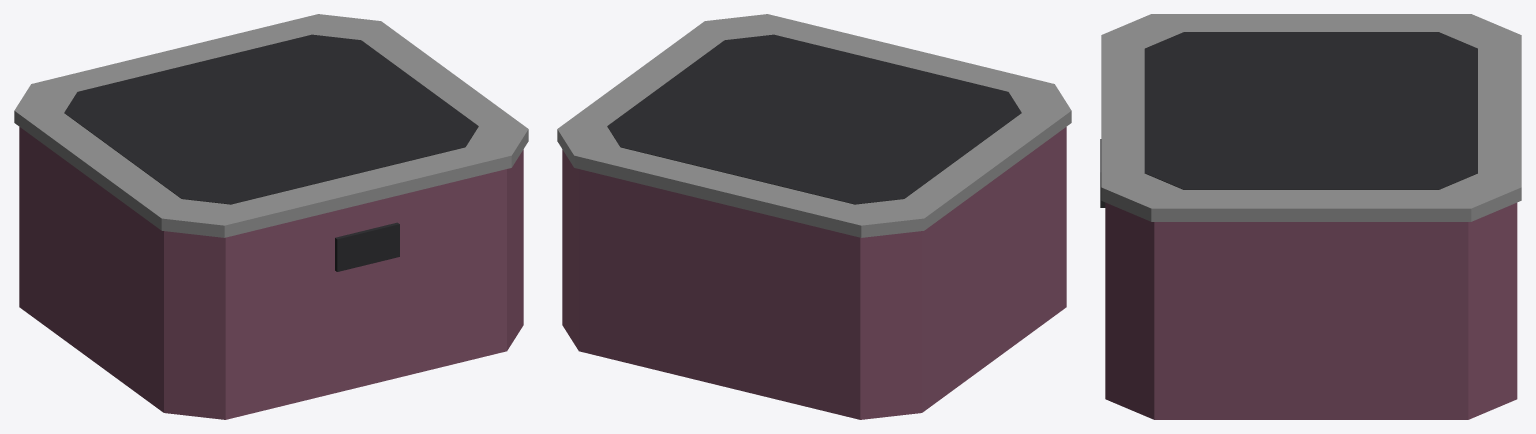
File: vge_spacer_box_electronics_empty.obj
3 views of the same model, side by side, from view 1: azimuth 30°, elevation 25°; view 2: azimuth 150°, elevation 25°; view 3: azimuth 270°, elevation 25° (orthographic). The views are drawn at different scales.
Visible parts, largest first — view 1: vge_spacer_box_electronics_empty_0, vge_spacer_box_electronics_empty_2, vge_spacer_box_electronics_empty_1, vge_spacer_box_electronics_empty_3; view 2: vge_spacer_box_electronics_empty_0, vge_spacer_box_electronics_empty_2, vge_spacer_box_electronics_empty_1; view 3: vge_spacer_box_electronics_empty_0, vge_spacer_box_electronics_empty_2, vge_spacer_box_electronics_empty_1.
Part boxes in pixels (bbox=[...]): vge_spacer_box_electronics_empty_0: bbox=[19, 127, 523, 419]; vge_spacer_box_electronics_empty_2: bbox=[64, 34, 478, 204]; vge_spacer_box_electronics_empty_1: bbox=[14, 14, 528, 237]; vge_spacer_box_electronics_empty_3: bbox=[335, 222, 399, 271]; vge_spacer_box_electronics_empty_0: bbox=[562, 127, 1066, 419]; vge_spacer_box_electronics_empty_2: bbox=[607, 34, 1021, 204]; vge_spacer_box_electronics_empty_1: bbox=[557, 14, 1071, 237]; vge_spacer_box_electronics_empty_0: bbox=[1105, 202, 1517, 419]; vge_spacer_box_electronics_empty_2: bbox=[1144, 32, 1477, 189]; vge_spacer_box_electronics_empty_1: bbox=[1101, 14, 1521, 221].
Size of the model in its own units: 0.9384 by 0.481 by 0.8584.
